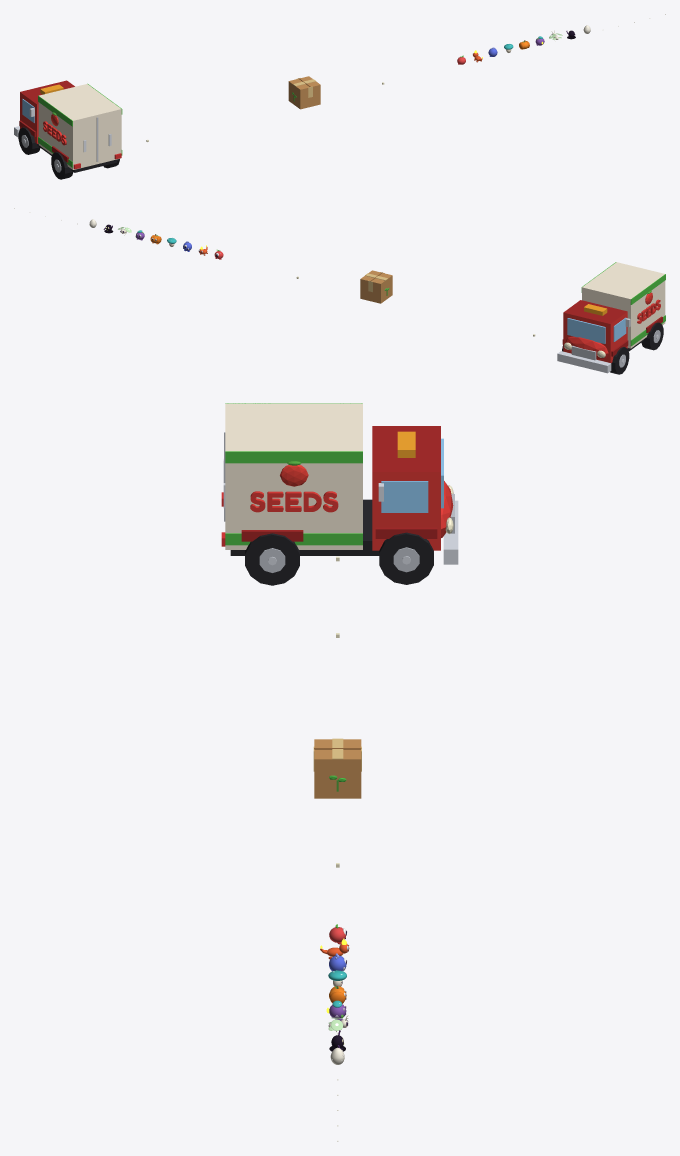
Rendered from FeedTheThing_Props.fbx.
3 views of the same model, one above another, from view 1: azimuth 30°, elevation 25°; view 2: azimuth 150°, elevation 25°; view 3: azimuth 270°, elevation 25° (orthographic). The views are drawn at different scales.
Parts seen in each view (by area): view 1: Truck_Body, Package_Box, Truck_WheelBL, Truck_WheelFL, Truck_Letters; view 2: Truck_Body, Package_Box, Truck_WheelBL, Truck_WheelFL, Truck_Letters; view 3: Truck_Body, Package_Box, Truck_WheelFR, Truck_WheelBR, Truck_Letters.
Part boxes in pixels (x1,y1,x2,y2): Truck_Body: [14, 80, 122, 172]; Package_Box: [288, 76, 320, 109]; Truck_WheelBL: [51, 152, 73, 179]; Truck_WheelFL: [18, 127, 40, 154]; Truck_Letters: [43, 112, 66, 145]; Truck_Body: [557, 262, 665, 373]; Package_Box: [360, 270, 392, 303]; Truck_WheelBL: [641, 322, 663, 350]; Truck_WheelFL: [610, 347, 629, 374]; Truck_Letters: [637, 290, 660, 323]; Truck_Body: [221, 403, 458, 564]; Package_Box: [313, 738, 361, 798]; Truck_WheelFR: [379, 532, 433, 584]; Truck_WheelBR: [245, 533, 299, 585]; Truck_Letters: [250, 461, 338, 512].
Size of the model in its own units: 79.66 by 8.1 by 13.05.
87 materials, 1 textured.
